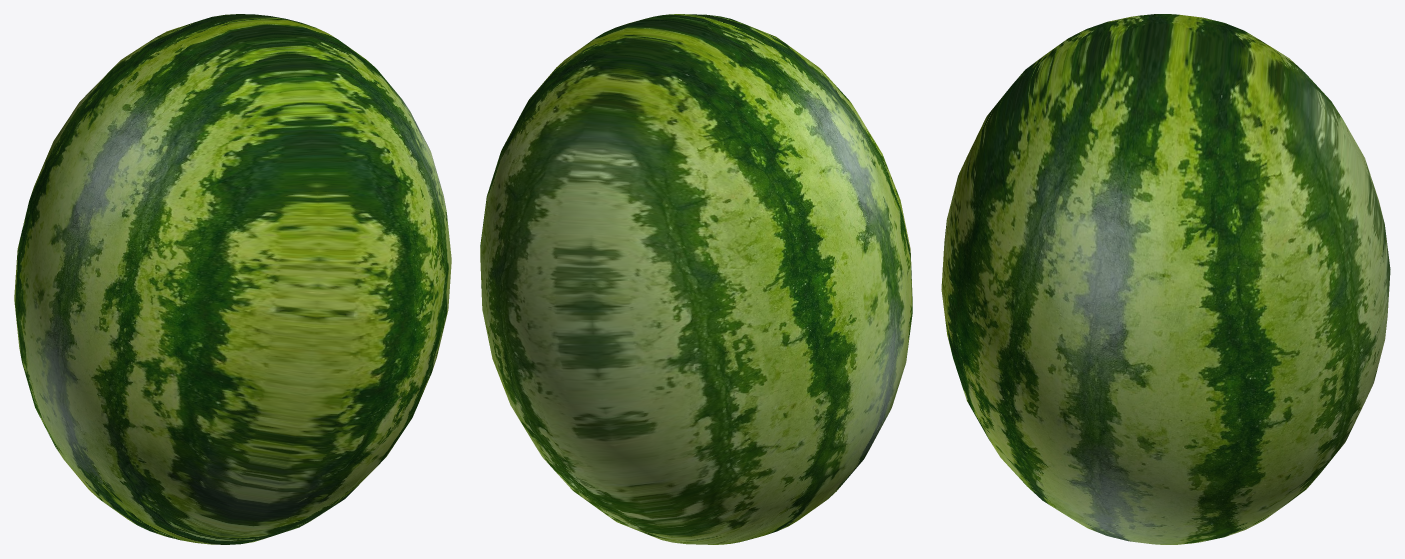
File: watermellon.dae
3 views of the same model, side by side, from view 1: azimuth 30°, elevation 25°; view 2: azimuth 150°, elevation 25°; view 3: azimuth 270°, elevation 25° (orthographic). The views are drawn at different scales.
Parts seen in each view (by area): view 1: Sphere; view 2: Sphere; view 3: Sphere.
Boxes of the visible parts, x1,y1,x2,y2 form: Sphere: [14, 14, 451, 544]; Sphere: [480, 14, 912, 544]; Sphere: [941, 14, 1390, 544].
Bounding box in the file's own units: 0.1006 × 0.0999 × 0.1251.
1 material, 1 textured.
